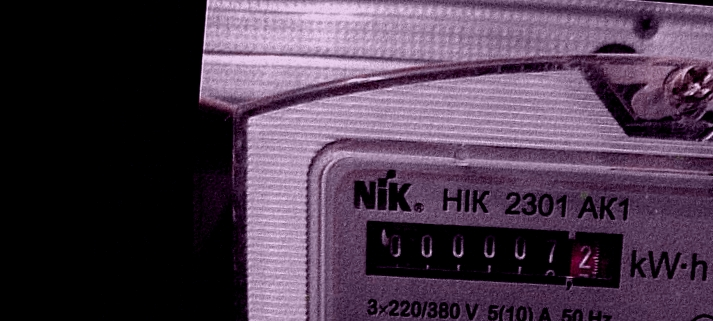0: (387, 231, 406, 259), (481, 232, 500, 260), (450, 231, 468, 260), (419, 231, 437, 259), (513, 234, 530, 263)
2: (577, 244, 595, 271)
7: (544, 235, 561, 266)
screen: (352, 207, 637, 301)
